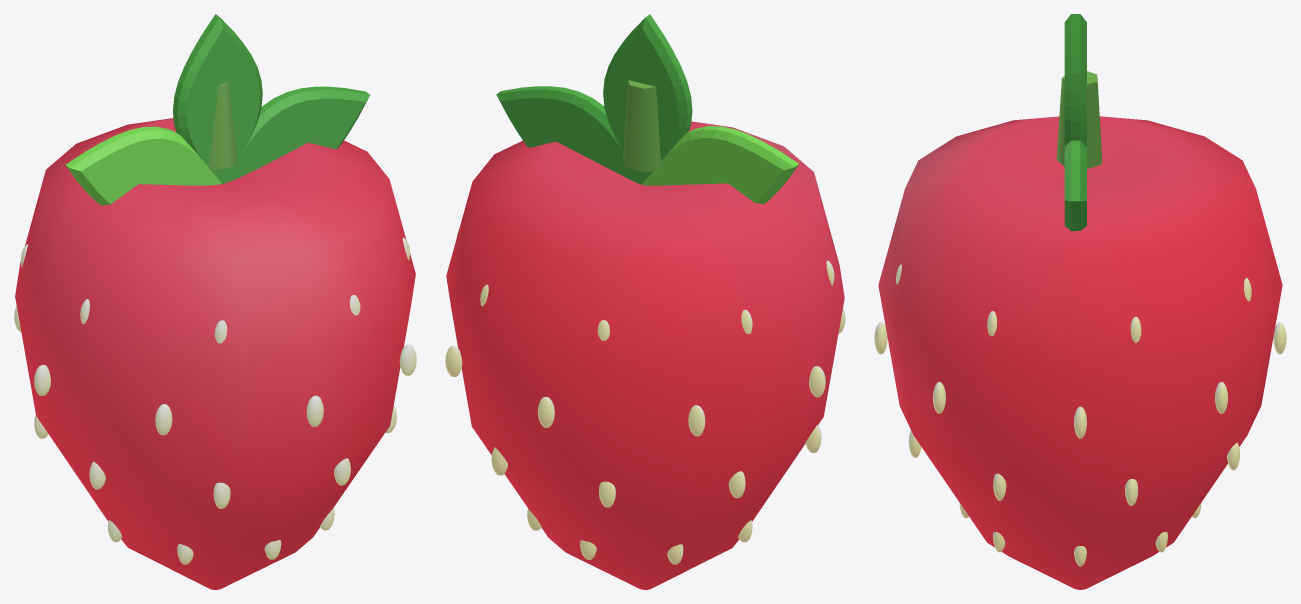
Rendered from pickup.glb.
The picture shows the model from 3 angles, left to right: view 1: azimuth 30°, elevation 25°; view 2: azimuth 150°, elevation 25°; view 3: azimuth 270°, elevation 25°; orthographic projection.
Bounding box in the file's own units: 0.1652 × 0.25 × 0.1631.
